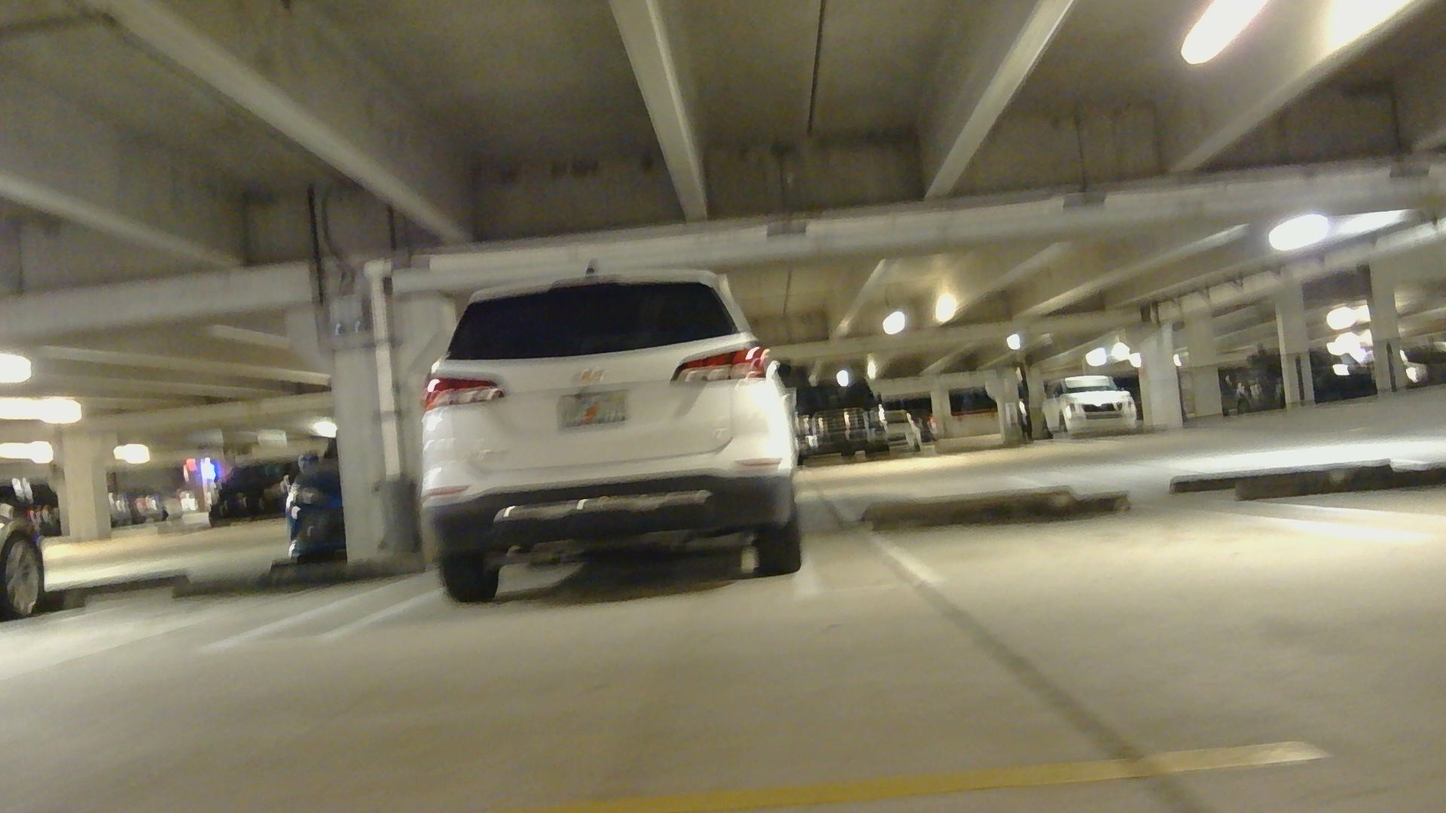empty_spot: (10, 499, 441, 708), (880, 470, 1432, 584)
occupied_spot: (414, 265, 807, 604)
